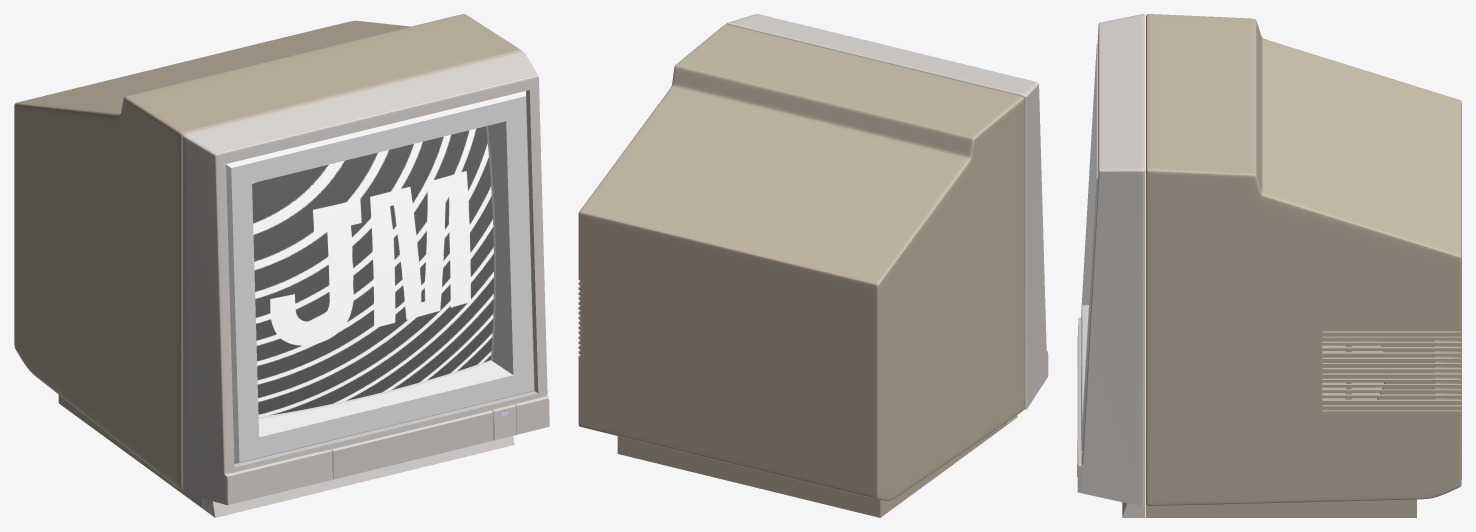
File: archimedes.glb
The picture shows the model from 3 angles, left to right: view 1: azimuth 30°, elevation 25°; view 2: azimuth 150°, elevation 25°; view 3: azimuth 270°, elevation 25°; orthographic projection. The views are drawn at different scales.
Parts seen in each view (by area): view 1: Back, Front, Glass, Screen, CD-ROM Tray, Power Button; view 2: Back, Front; view 3: Back, Front, Exhaust Cover.
Part boxes in pixels (left/top/right/bottom): Back: left=14, top=14, right=521, bottom=508; Front: left=182, top=51, right=549, bottom=517; Glass: left=252, top=126, right=495, bottom=418; Screen: left=252, top=126, right=493, bottom=417; CD-ROM Tray: left=331, top=410, right=493, bottom=479; Power Button: left=492, top=404, right=516, bottom=440; Back: left=578, top=24, right=1024, bottom=517; Front: left=726, top=14, right=1048, bottom=424; Back: left=1146, top=14, right=1461, bottom=517; Front: left=1077, top=14, right=1145, bottom=517; Exhaust Cover: left=1322, top=331, right=1461, bottom=413.
Size of the model in its own units: 16 by 17 by 16.57.
Materials: 9 (1 with a texture image).
